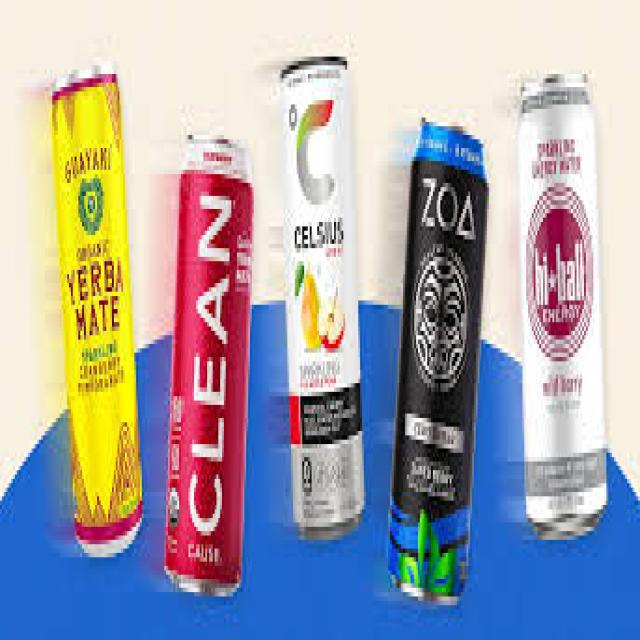Cans: (41, 52, 147, 570), (511, 56, 614, 548), (394, 109, 494, 614), (160, 126, 260, 610), (274, 44, 366, 544)
